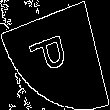P_E: (31, 30, 79, 80)
